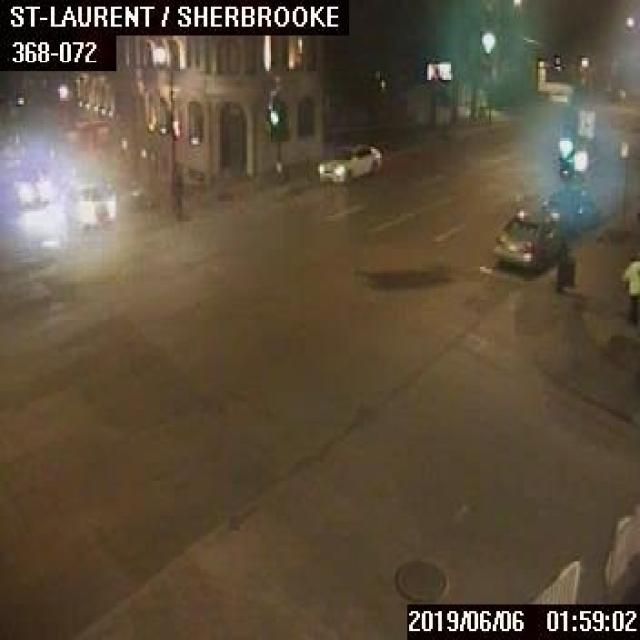pedestrian: (618, 251, 638, 322)
vehicle: (491, 206, 566, 273), (62, 177, 114, 229), (539, 186, 596, 232), (316, 142, 381, 182), (14, 172, 48, 206)
